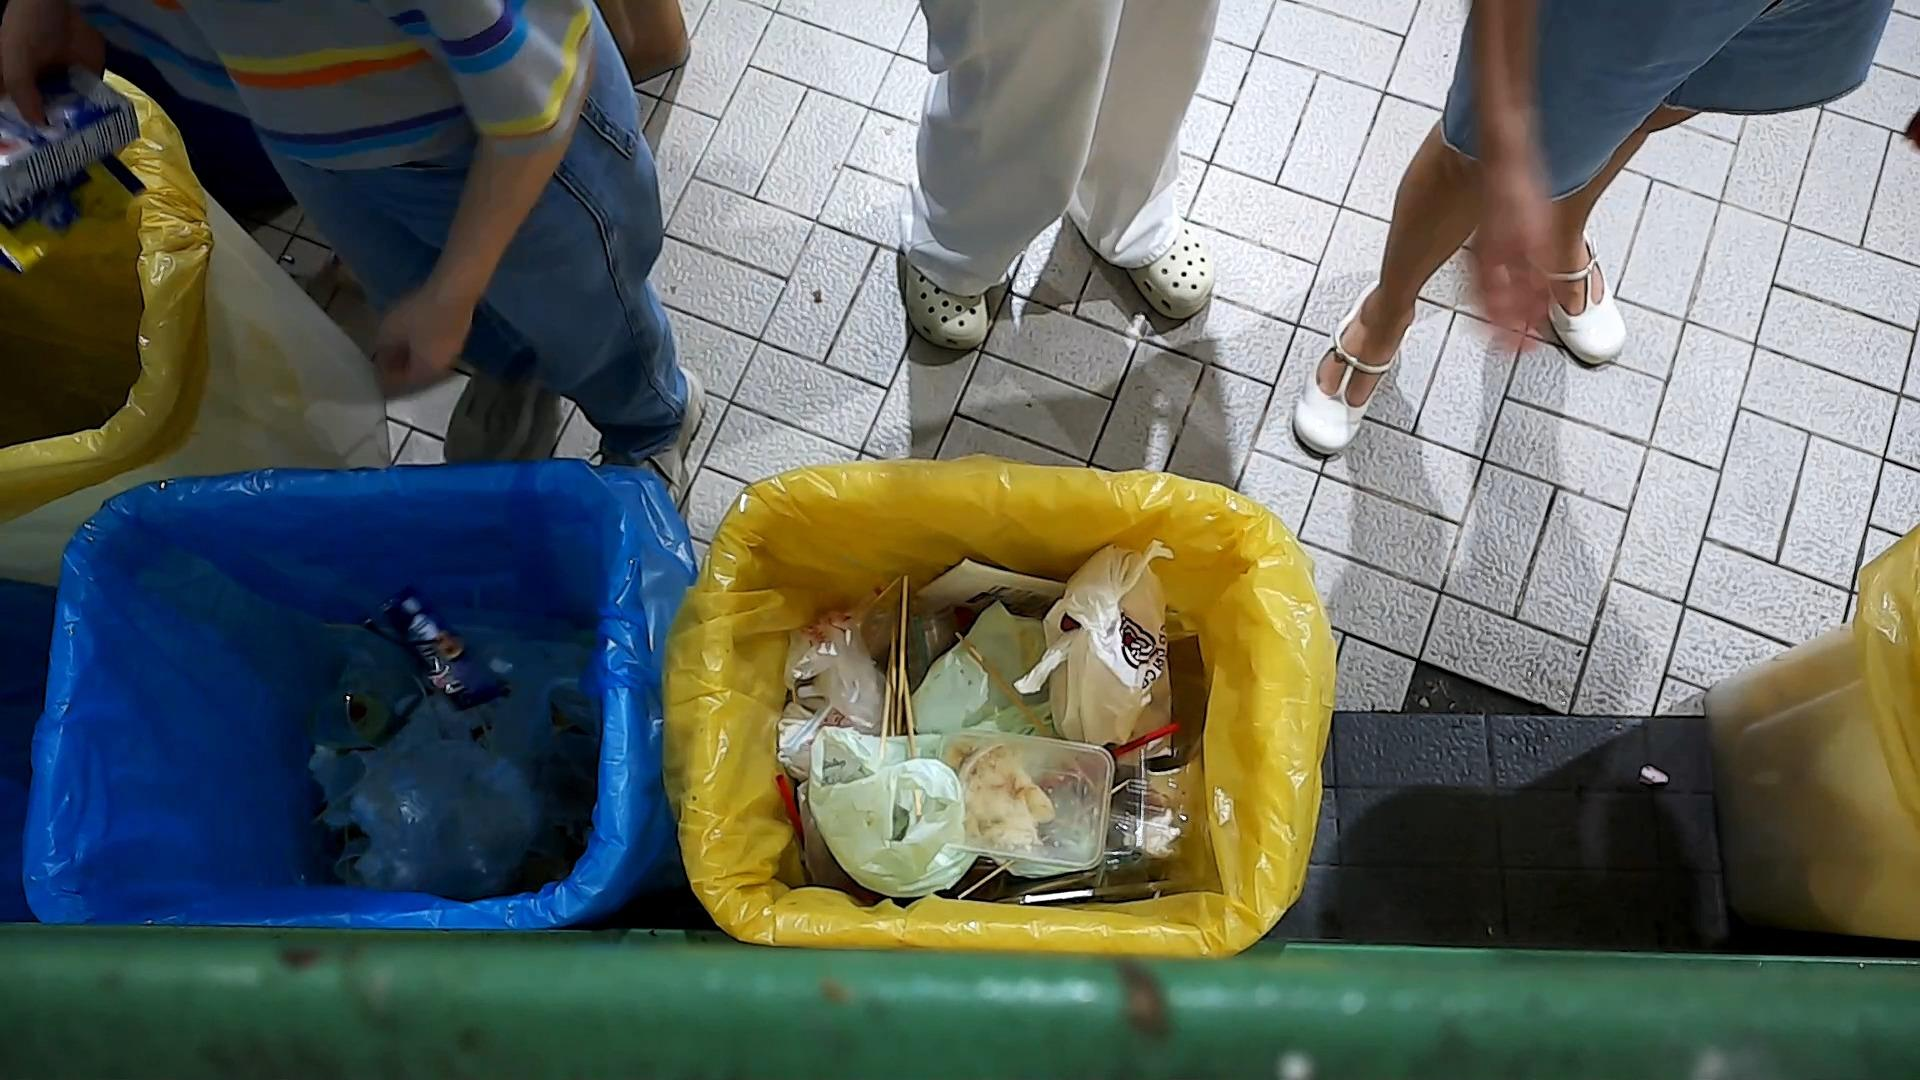dirty food container: (935, 727, 1118, 874)
filled plastic bag: (1011, 538, 1182, 760), (802, 707, 989, 903)
milk carton: (0, 54, 142, 216)
plastic bag: (344, 654, 564, 906), (775, 597, 885, 748)
plastic cup: (302, 654, 431, 757)
snack packaging: (355, 580, 516, 715), (0, 148, 156, 282)
sticks: (956, 777, 1134, 901), (952, 630, 1055, 740), (305, 753, 398, 831), (903, 667, 923, 819), (878, 621, 897, 765), (465, 692, 500, 762), (895, 574, 910, 736)
straw: (1109, 717, 1185, 760), (773, 773, 807, 855)
